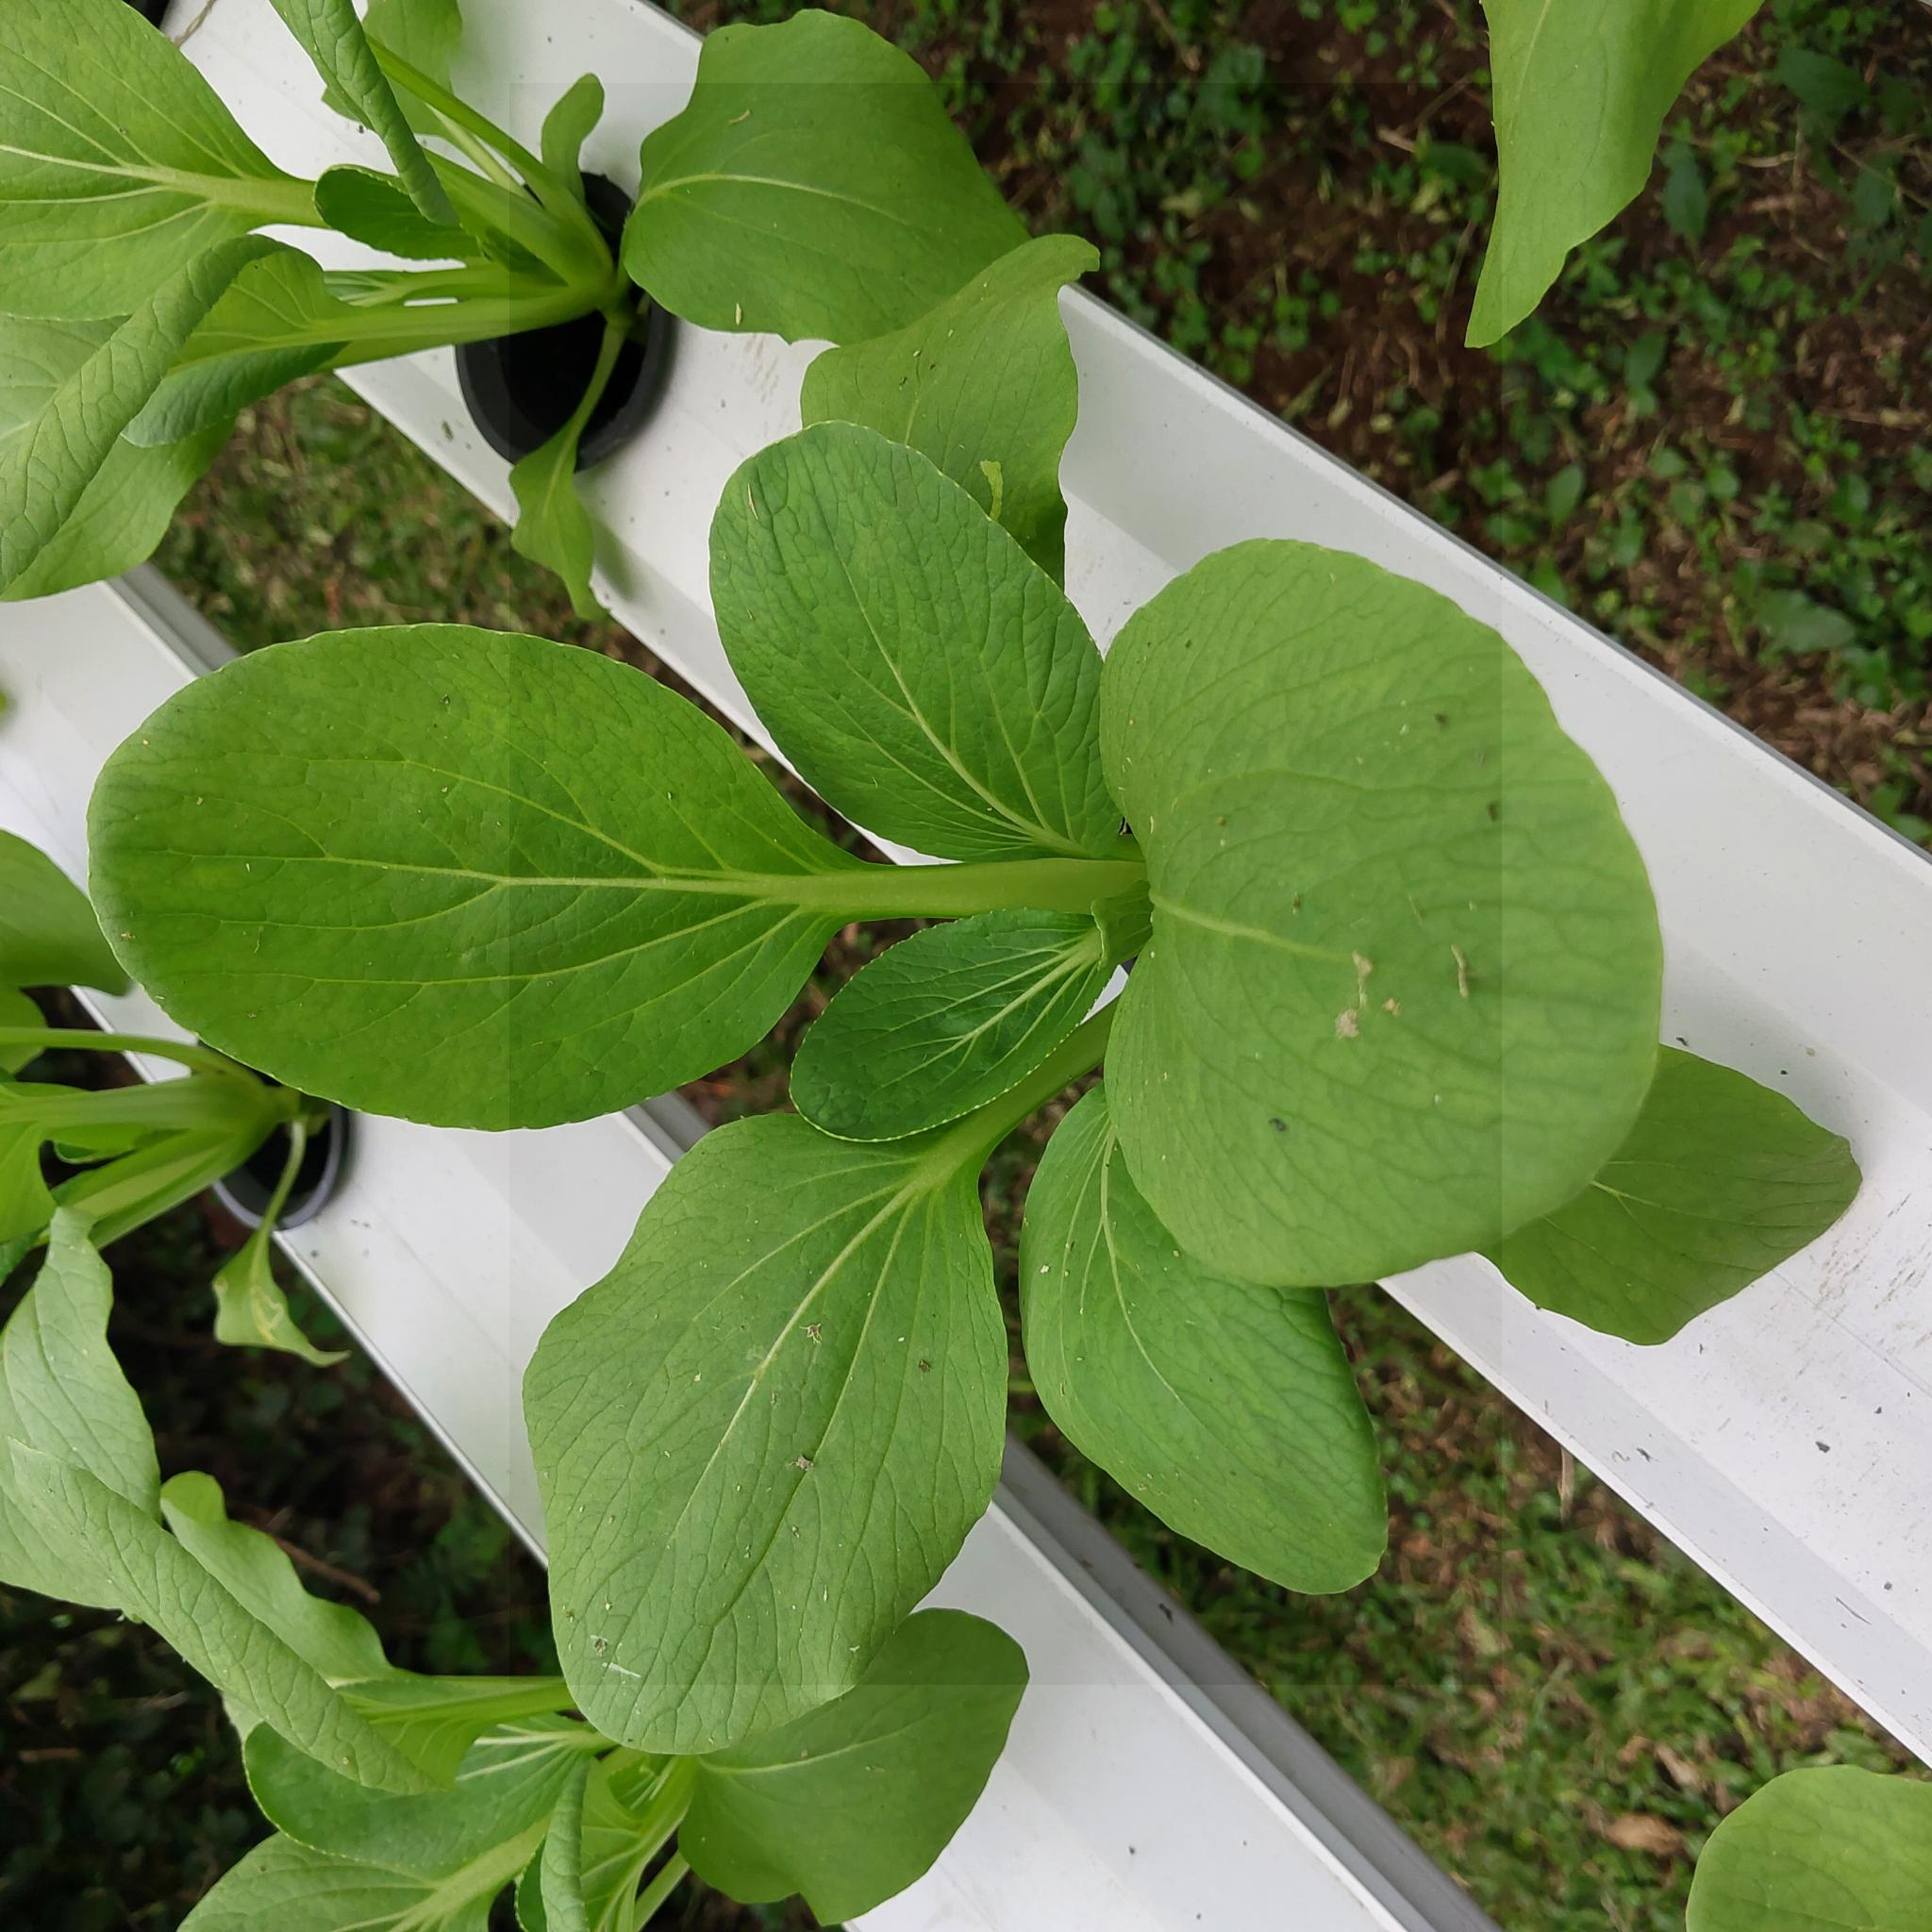Healthy-Pechay: (76, 612, 1058, 1070), (1095, 552, 1672, 1210), (731, 419, 1353, 973), (534, 1106, 996, 1773), (163, 1599, 985, 1921), (1046, 1086, 1362, 1603), (621, 9, 1023, 354), (157, 1467, 577, 1790), (0, 232, 327, 598), (1472, 1046, 1868, 1339), (4, 0, 341, 329), (821, 232, 1079, 602), (115, 745, 671, 916), (214, 1711, 600, 1914), (2, 1198, 163, 1566), (214, 248, 609, 368), (504, 308, 637, 623), (1686, 1764, 1932, 1925), (1017, 1086, 1129, 1430), (209, 1111, 354, 1369), (0, 188, 239, 331), (166, 1836, 497, 1927), (41, 1122, 272, 1247), (375, 1500, 531, 1674), (2, 812, 129, 996), (4, 1028, 278, 1099), (310, 166, 483, 264), (359, 0, 469, 129), (536, 76, 605, 226)
